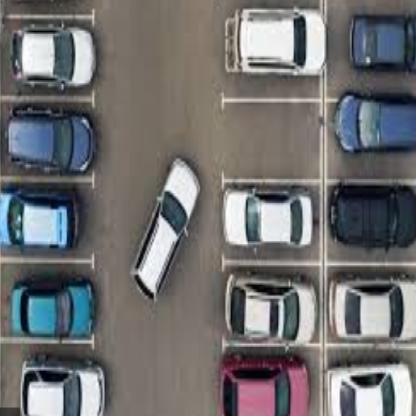Car: (129, 151, 189, 297), (220, 18, 318, 85), (332, 184, 413, 252), (228, 181, 313, 244), (332, 357, 414, 415), (7, 188, 93, 243), (325, 280, 408, 336), (16, 273, 104, 325), (213, 358, 306, 407), (333, 89, 402, 153), (14, 114, 95, 168), (29, 360, 112, 407), (23, 28, 92, 82), (349, 5, 400, 69), (235, 278, 301, 323)
Empty: (222, 112, 309, 174)
